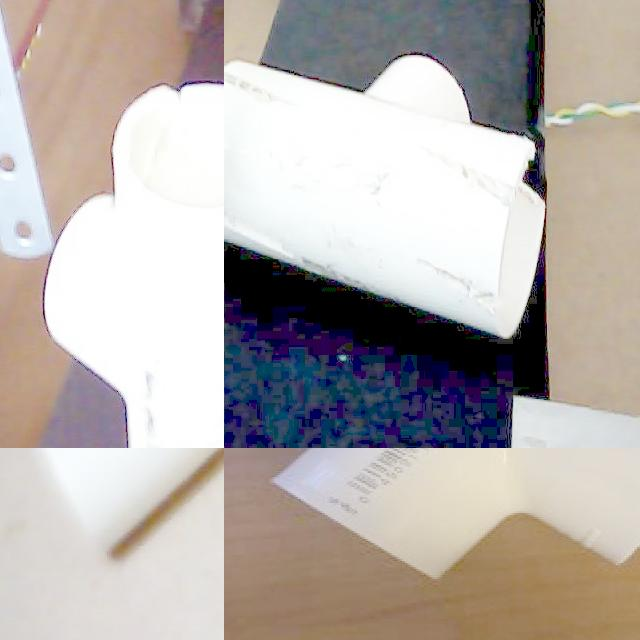Defective: (116, 341, 224, 448), (405, 217, 504, 321), (427, 128, 543, 214), (224, 187, 304, 263), (224, 71, 301, 130), (151, 81, 223, 128)
L Joint: (271, 448, 640, 581)
T Joint: (224, 54, 547, 342), (30, 448, 224, 563)
